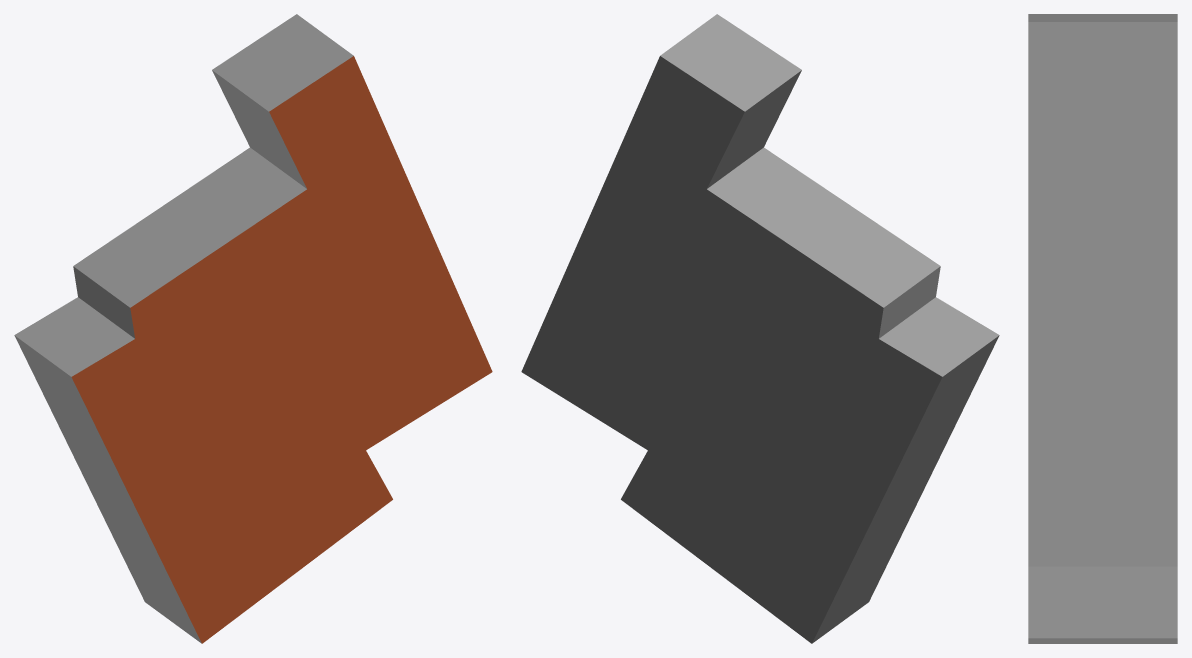
Rendered from construction_0440_assumed_A_Casa_h6m.obj.
3 renders of one model, left to right at view 1: azimuth 30°, elevation 25°; view 2: azimuth 150°, elevation 25°; view 3: azimuth 270°, elevation 25°, orthographic. The views are drawn at different scales.
Parts seen in each view (by area): view 1: construction_0440_assumed_A_Casa; view 2: construction_0440_assumed_A_Casa; view 3: construction_0440_assumed_A_Casa.
Boxes of the visible parts, <box> form: construction_0440_assumed_A_Casa: <box>14,14,492,643</box>; construction_0440_assumed_A_Casa: <box>521,14,999,643</box>; construction_0440_assumed_A_Casa: <box>1028,14,1177,643</box>.
Bounding box in the file's own units: 25.54 × 31.92 × 6.
